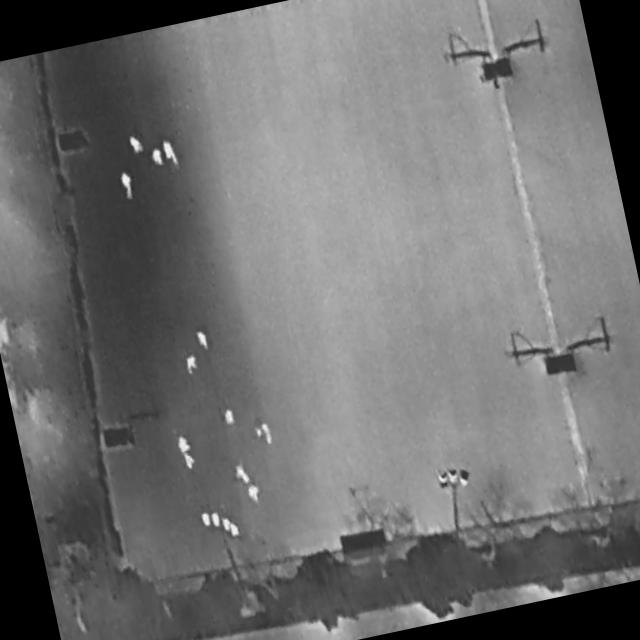person: (159, 136, 182, 171), (229, 458, 254, 489), (253, 420, 277, 452), (124, 129, 148, 160), (118, 172, 136, 204), (194, 329, 213, 353), (246, 482, 264, 505), (176, 434, 193, 456), (184, 354, 200, 375), (223, 406, 237, 427), (150, 148, 165, 166), (183, 453, 197, 472)
